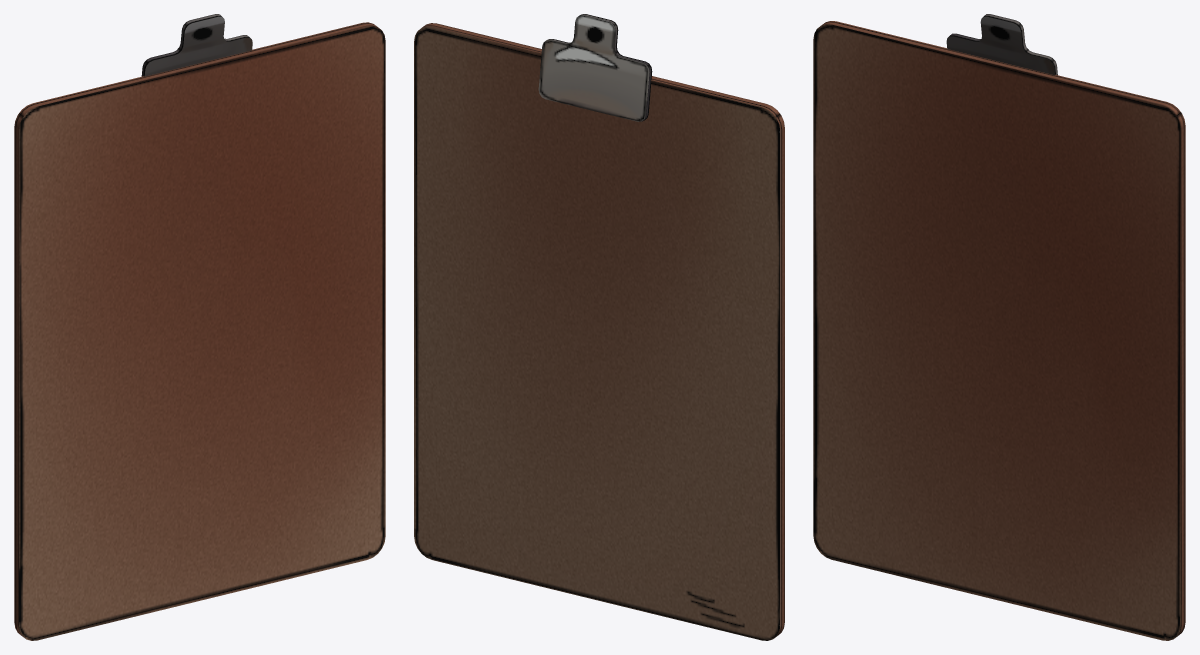
Rendered from Clipboard.fbx.
3 renders of one model, left to right at view 1: azimuth 30°, elevation 25°; view 2: azimuth 150°, elevation 25°; view 3: azimuth 330°, elevation 25°, orthographic.
Parts seen in each view (by area): view 1: pCube4; view 2: pCube4; view 3: pCube4.
Boxes of the visible parts, x1,y1,x2,y2 form: pCube4: (14,14,385,640); pCube4: (414,14,784,640); pCube4: (813,14,1185,640).
Bounding box in the file's own units: 23 × 34.79 × 1.11.
Materials: 1 (1 with a texture image).
